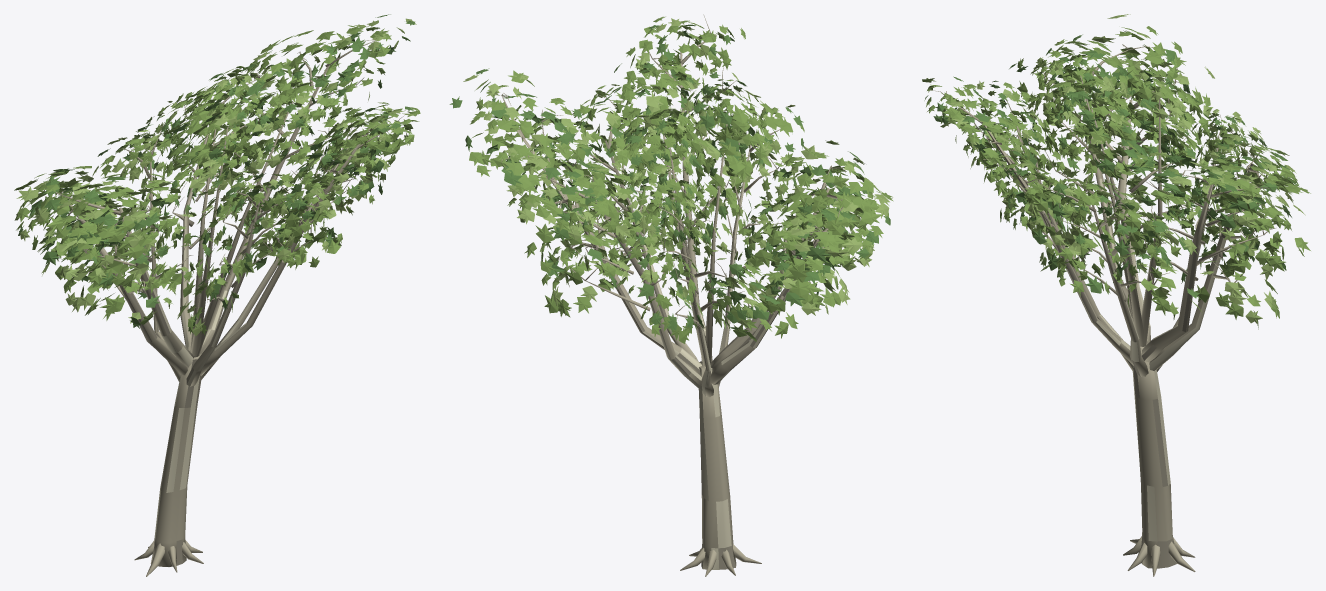
The picture shows the model from 3 angles, left to right: view 1: azimuth 30°, elevation 25°; view 2: azimuth 150°, elevation 25°; view 3: azimuth 270°, elevation 25°; orthographic projection. The views are drawn at different scales.
Parts seen in each view (by area): view 1: tree_plane_a_PlaneLeaf, tree_plane_a_PlaneBark, tree_plane_a_PlaneLeafLight, tree_plane_a_PlaneLeafDark, tree_plane_a_PlaneBarkPale, tree_plane_a_PlaneBarkBrown; view 2: tree_plane_a_PlaneLeaf, tree_plane_a_PlaneLeafLight, tree_plane_a_PlaneLeafDark, tree_plane_a_PlaneBark, tree_plane_a_PlaneBarkPale, tree_plane_a_PlaneBarkBrown; view 3: tree_plane_a_PlaneLeaf, tree_plane_a_PlaneBark, tree_plane_a_PlaneLeafDark, tree_plane_a_PlaneLeafLight, tree_plane_a_PlaneBarkPale, tree_plane_a_PlaneBarkBrown.
Part boxes in pixels (x1,y1,x2,y2): tree_plane_a_PlaneLeaf: (14, 25, 420, 335); tree_plane_a_PlaneBark: (43, 39, 404, 576); tree_plane_a_PlaneLeafLight: (14, 18, 416, 335); tree_plane_a_PlaneLeafDark: (18, 14, 414, 328); tree_plane_a_PlaneBarkPale: (100, 134, 303, 539); tree_plane_a_PlaneBarkBrown: (119, 66, 346, 565); tree_plane_a_PlaneLeaf: (469, 16, 893, 343); tree_plane_a_PlaneLeafLight: (463, 18, 889, 327); tree_plane_a_PlaneLeafDark: (449, 24, 890, 332); tree_plane_a_PlaneBark: (501, 14, 845, 576); tree_plane_a_PlaneBarkPale: (517, 52, 816, 569); tree_plane_a_PlaneBarkBrown: (586, 140, 816, 569); tree_plane_a_PlaneLeaf: (922, 26, 1310, 329); tree_plane_a_PlaneBark: (931, 44, 1275, 576); tree_plane_a_PlaneLeafDark: (924, 34, 1299, 298); tree_plane_a_PlaneLeafLight: (940, 14, 1305, 323); tree_plane_a_PlaneBarkPale: (986, 100, 1252, 541); tree_plane_a_PlaneBarkBrown: (982, 122, 1252, 568).
Bounding box in the file's own units: 15.37 × 16.68 × 11.02.
